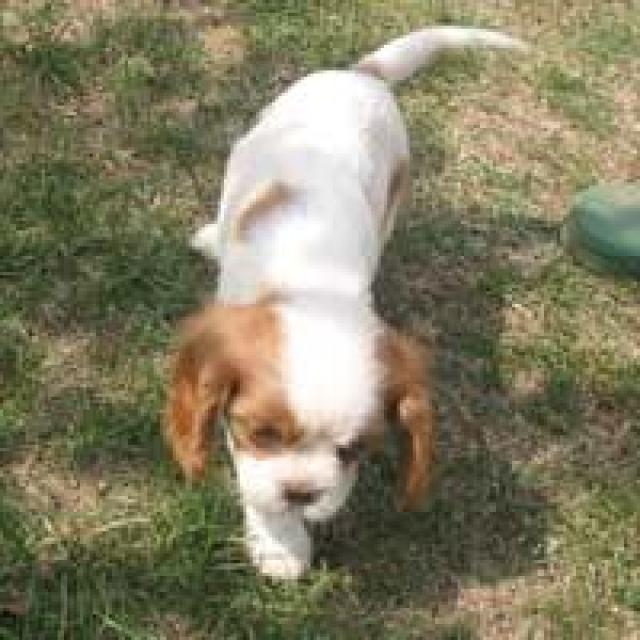blenheim_spaniel: (157, 32, 531, 582)
